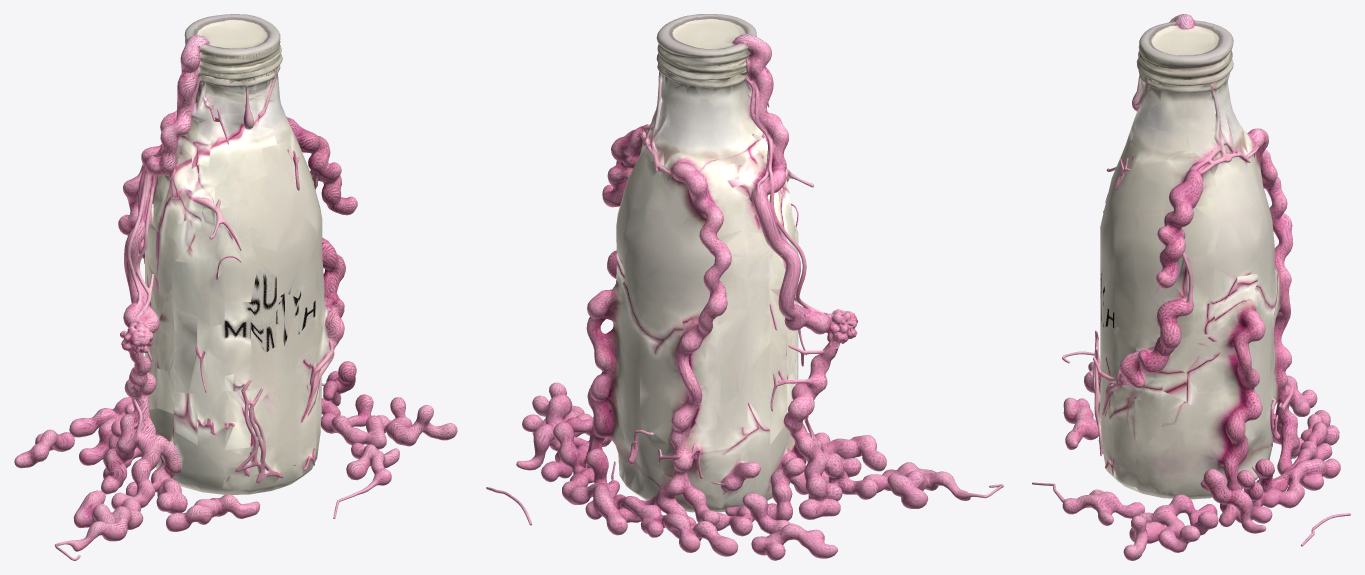
File: Milk.glb
The picture shows the model from 3 angles, left to right: view 1: azimuth 30°, elevation 25°; view 2: azimuth 150°, elevation 25°; view 3: azimuth 270°, elevation 25°; orthographic projection. The views are drawn at different scales.
Parts seen in each view (by area): view 1: Mesh_0; view 2: Mesh_0; view 3: Mesh_0.
Boxes of the visible parts, x1=… form: Mesh_0: x1=14, y1=14, x2=457, y2=560; Mesh_0: x1=486, y1=14, x2=1003, y2=560; Mesh_0: x1=1032, y1=14, x2=1350, y2=560.
Bounding box in the file's own units: 1.89 × 1.9 × 1.25.
Materials: 1 (1 with a texture image).
